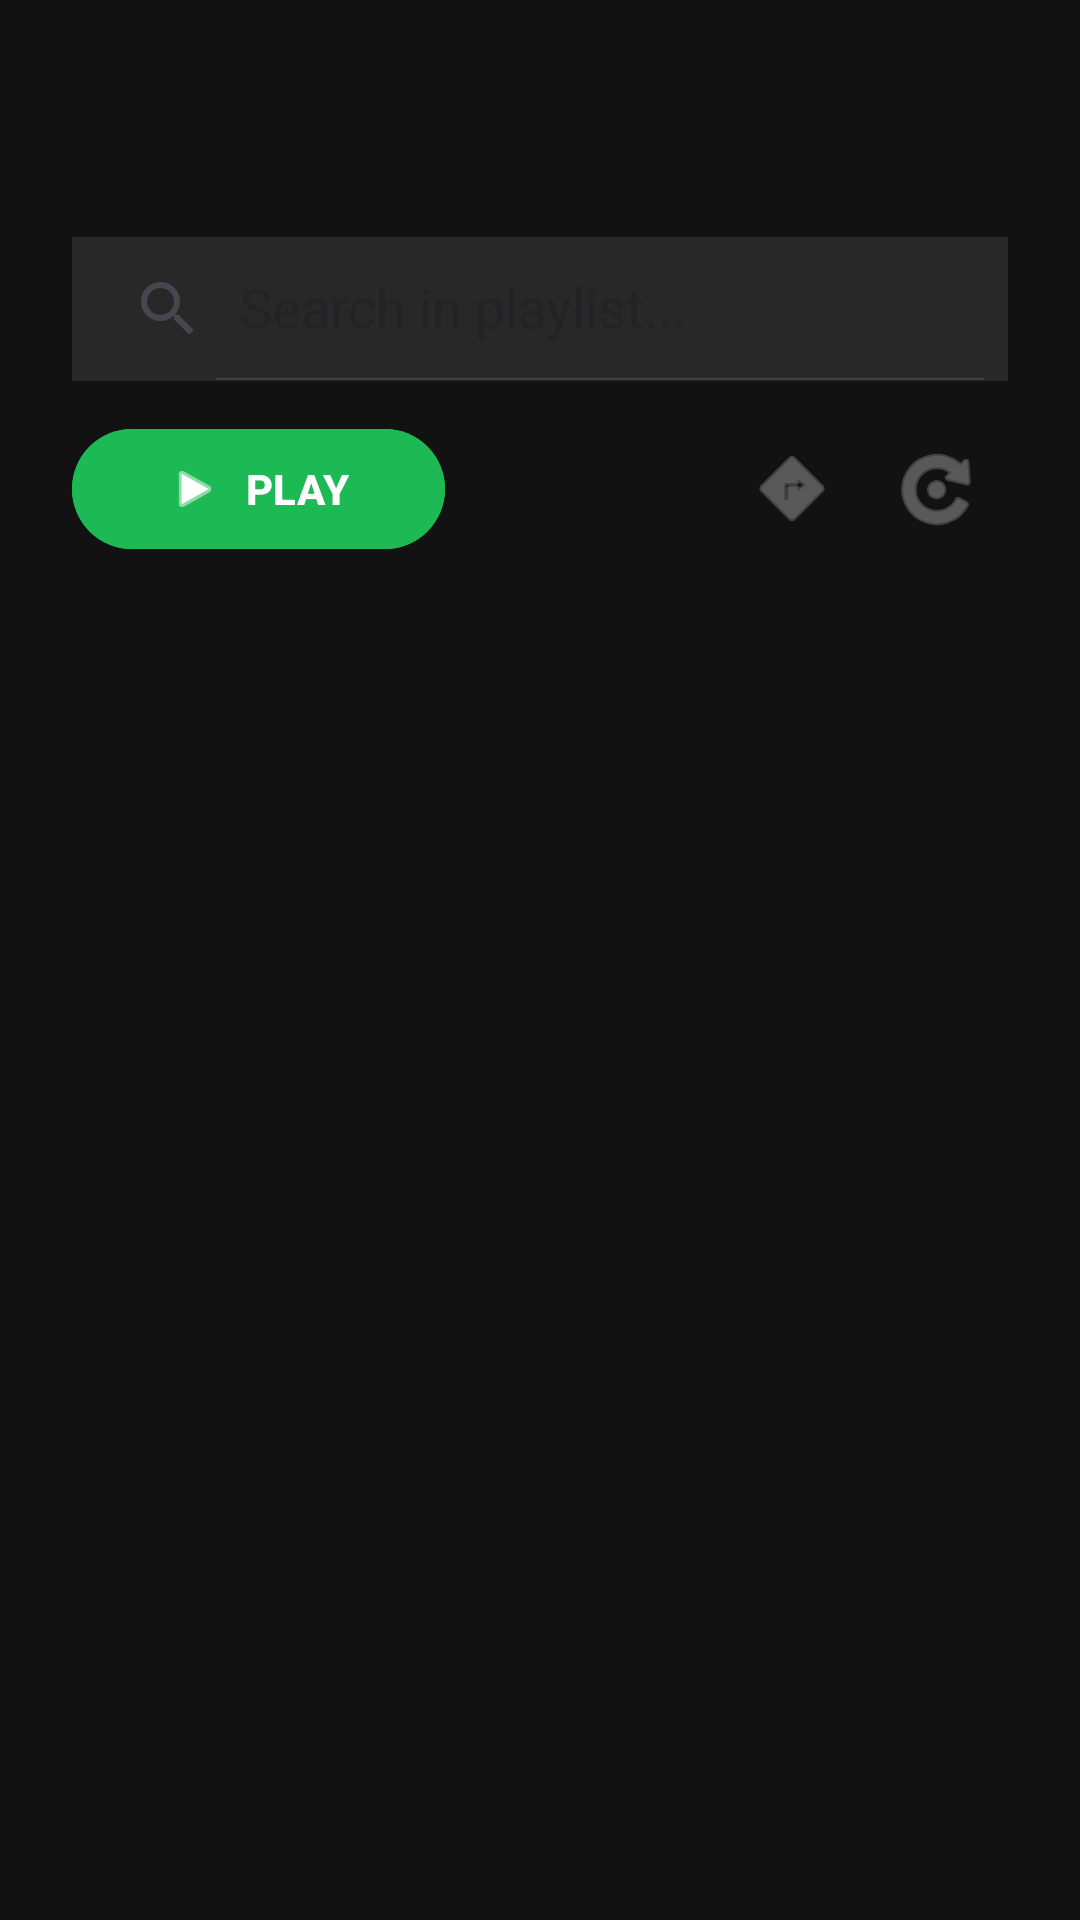

Where icons sit on this 1080px×1920px app screen, as (x1, y1, x2, y2):
directions: (759, 456, 825, 521)
rotate: (901, 454, 971, 525)
